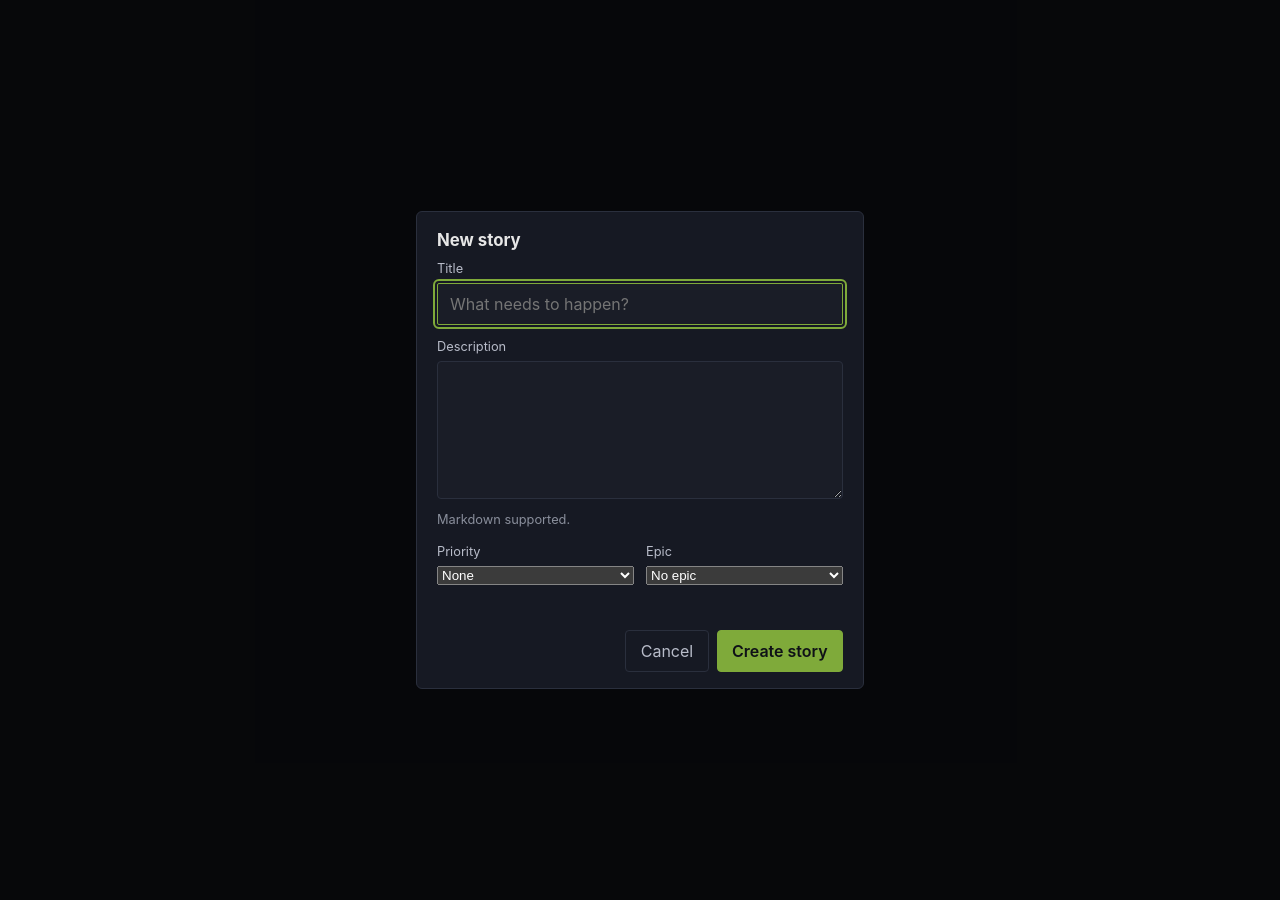
Test case: StoryCreateModal › rejects submit with an empty title and does not POST
The image size is (1280, 900).
Expected: the dialog is shown, left=416, top=211, right=864, bottom=689
Click the button "Create story".
click(780, 651)  # box left=717, top=630, right=843, bottom=672
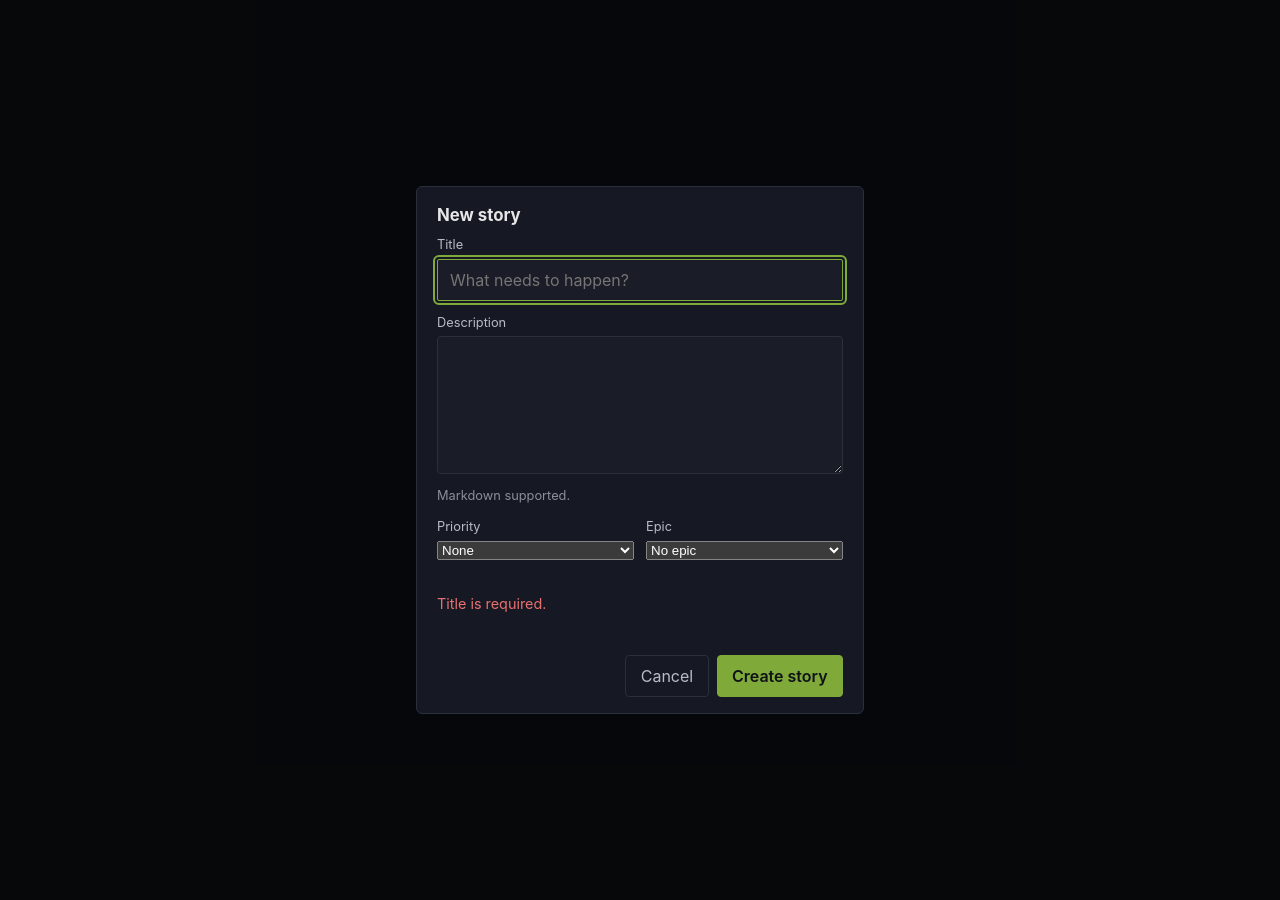
Now the message shows "Title is required", box left=437, top=595, right=546, bottom=612
